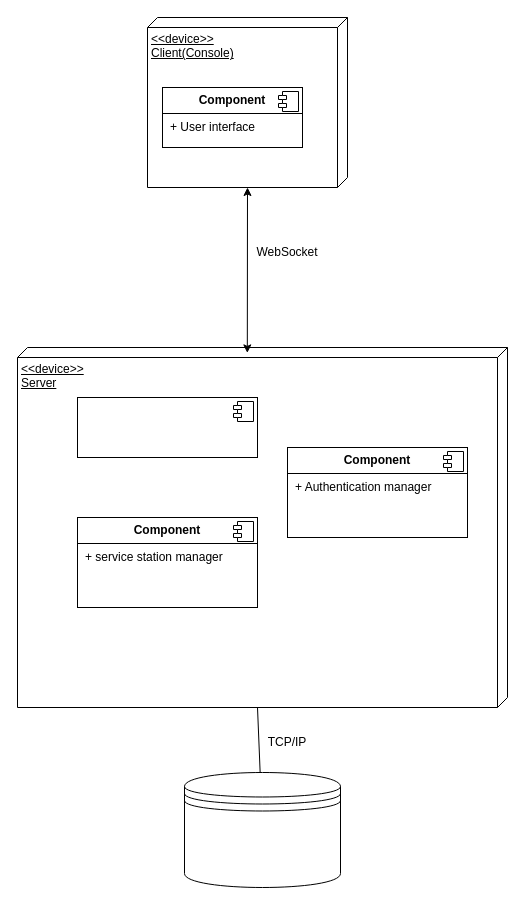
Some shapes in this 525 by 905 pixel diagram are drawn without their labels. The centre of each missing label's shape, as x and y in pixels:
<<device>> DatabaseServer: (x=262, y=830)
Component + Database service manager: (x=167, y=427)
